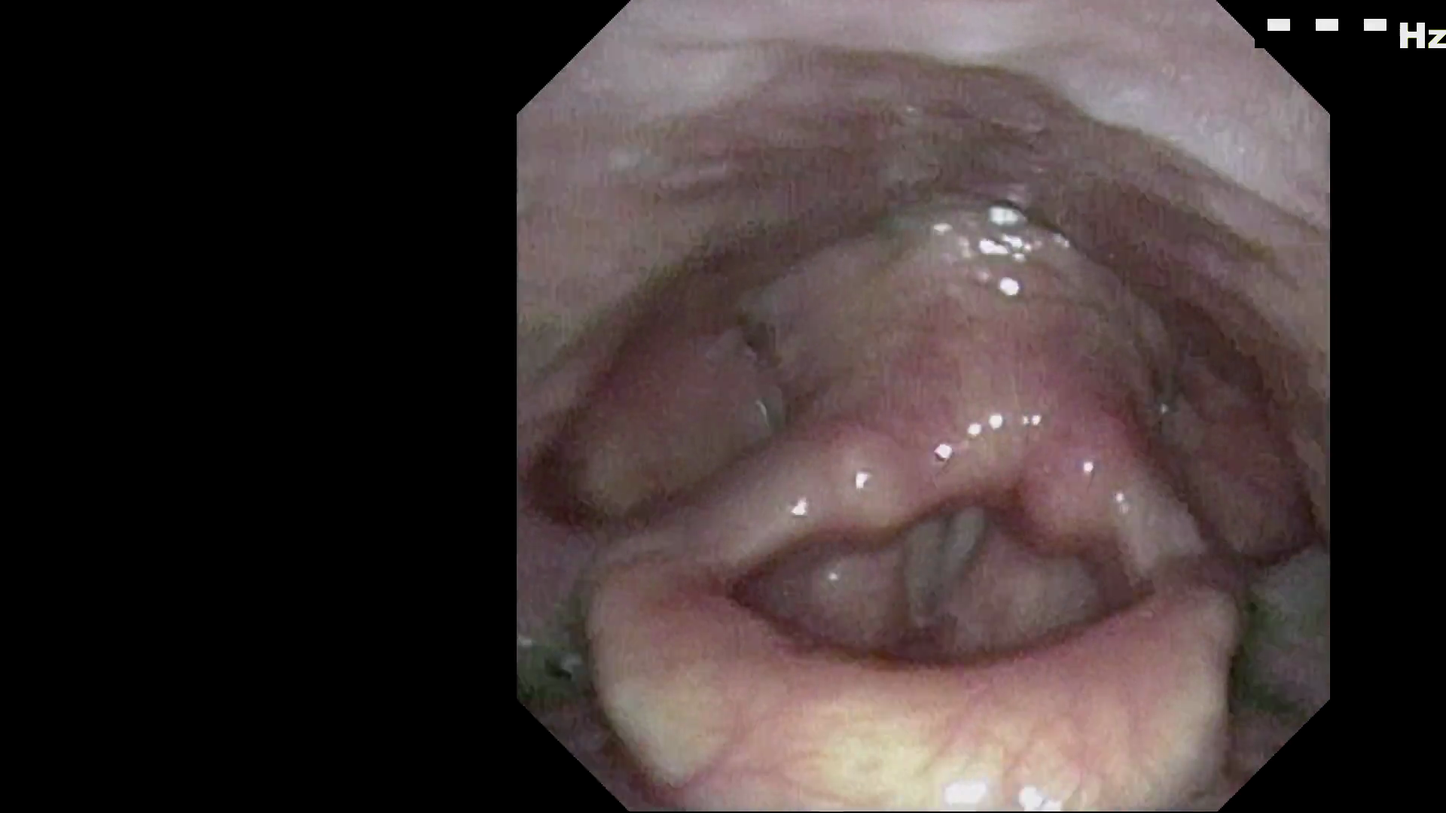epiglottis: (622, 622, 1243, 776)
trachea: (918, 505, 1024, 644)
